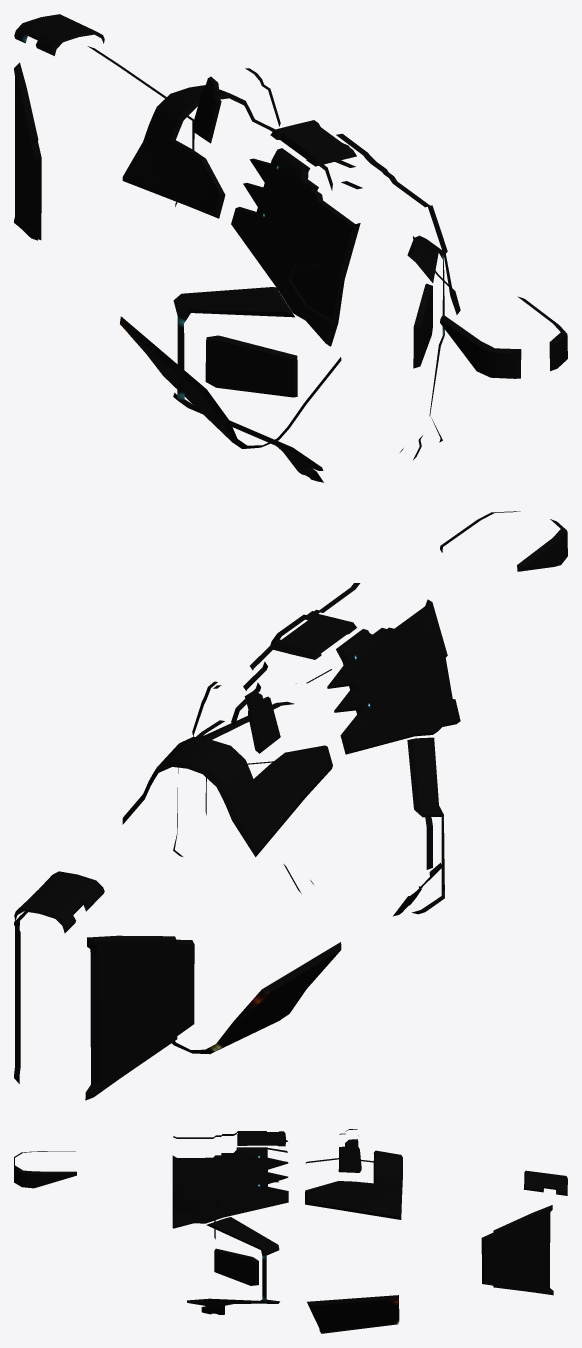
The model's file is yao_cc_carr_01_t2.glb.
3 views of the same model, one above another, from view 1: azimuth 30°, elevation 25°; view 2: azimuth 150°, elevation 25°; view 3: azimuth 270°, elevation 25° (orthographic). The views are drawn at different scales.
Parts seen in each view (by area): view 1: yao_carrier_ship_01_t2_LOD0; view 2: yao_carrier_ship_01_t2_LOD0; view 3: yao_carrier_ship_01_t2_LOD0.
Boxes of the visible parts, x1=… form: yao_carrier_ship_01_t2_LOD0: x1=14, y1=14, x2=567, y2=482; yao_carrier_ship_01_t2_LOD0: x1=14, y1=511, x2=567, y2=1100; yao_carrier_ship_01_t2_LOD0: x1=14, y1=1129, x2=567, y2=1333.
Size of what is drawn, in the model's own units: 3.28 by 4.11 by 10.53.
Materials: 1 (1 with a texture image).
